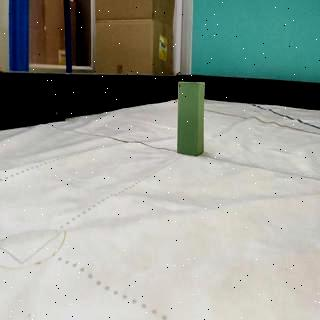greenbox: (178, 82, 205, 156)
